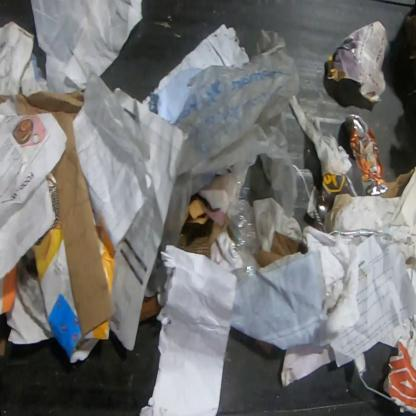cardboard: (16, 90, 116, 336)
metal: (345, 113, 388, 197)
soft_plastic: (146, 28, 300, 307), (230, 180, 258, 278)
